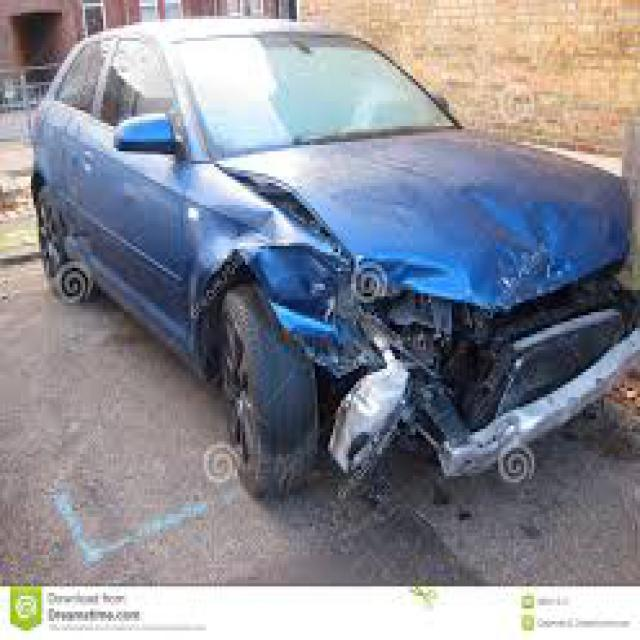bonnet-dent: (282, 114, 638, 303)
fender-dent: (173, 189, 300, 391)
